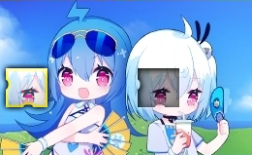gap: (137, 68, 179, 107)
